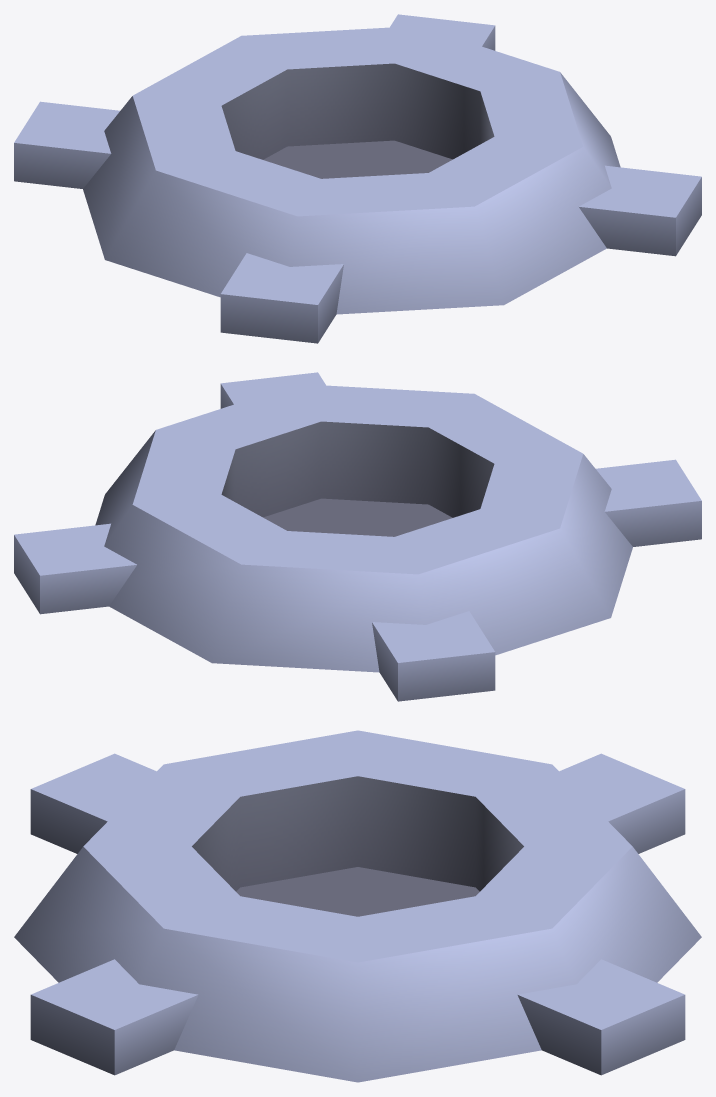
The model's file is spawn-round.fbx.
The picture shows the model from 3 angles, top to bottom: view 1: azimuth 30°, elevation 25°; view 2: azimuth 150°, elevation 25°; view 3: azimuth 270°, elevation 25°; orthographic projection. The views are drawn at different scales.
Visible parts, largest first — view 1: spawn-round; view 2: spawn-round; view 3: spawn-round.
Part boxes in pixels (x1,y1,x2,y2): spawn-round: [14, 14, 701, 343]; spawn-round: [14, 372, 701, 701]; spawn-round: [14, 730, 701, 1082].
Size of the model in its own units: 68.75 by 10 by 68.75.
